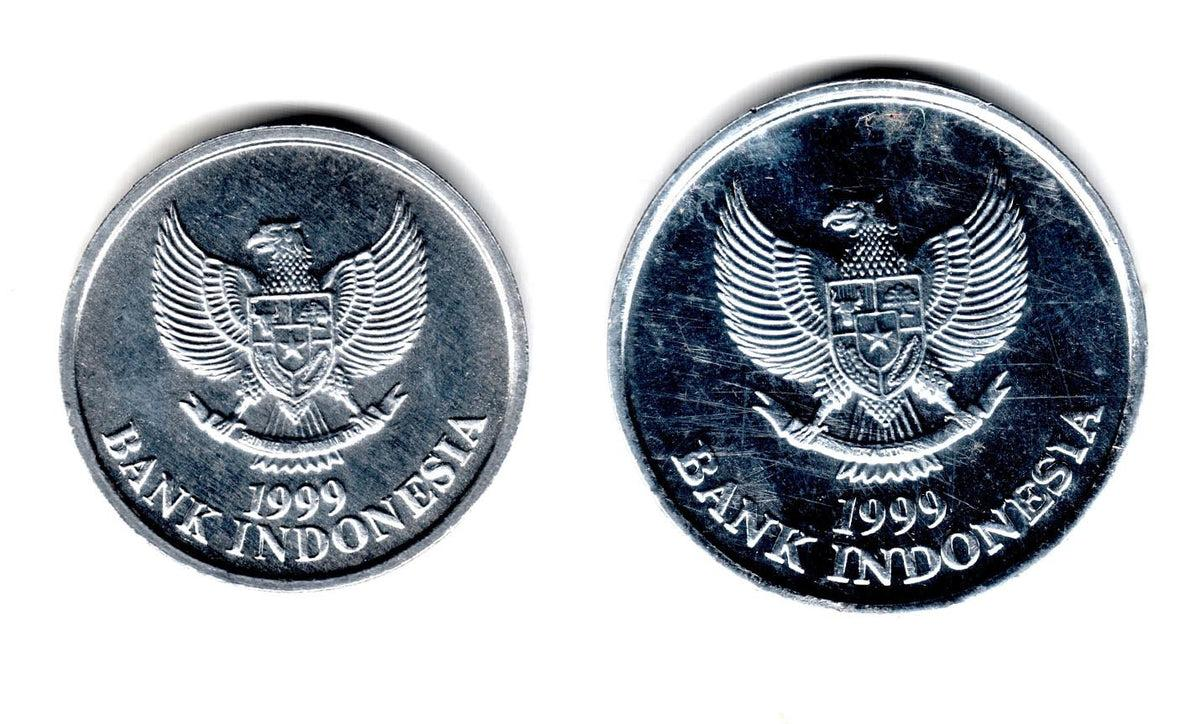coin_100_e1999: (596, 63, 1160, 635)
